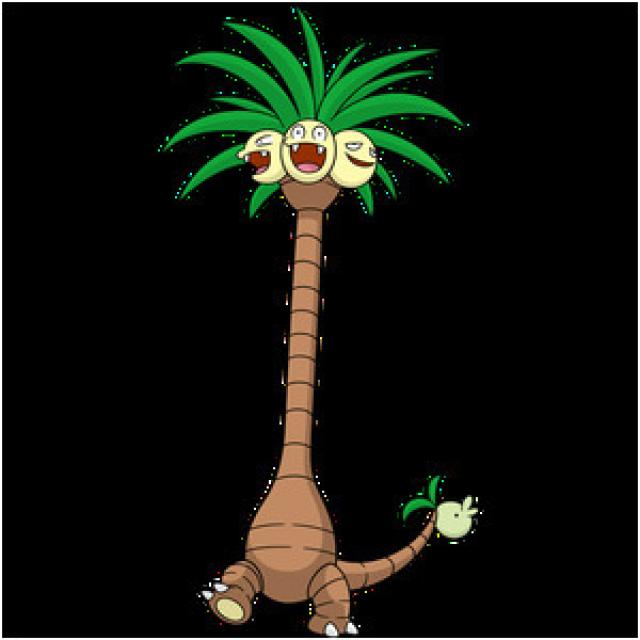Exeggutor: (186, 36, 474, 638)
